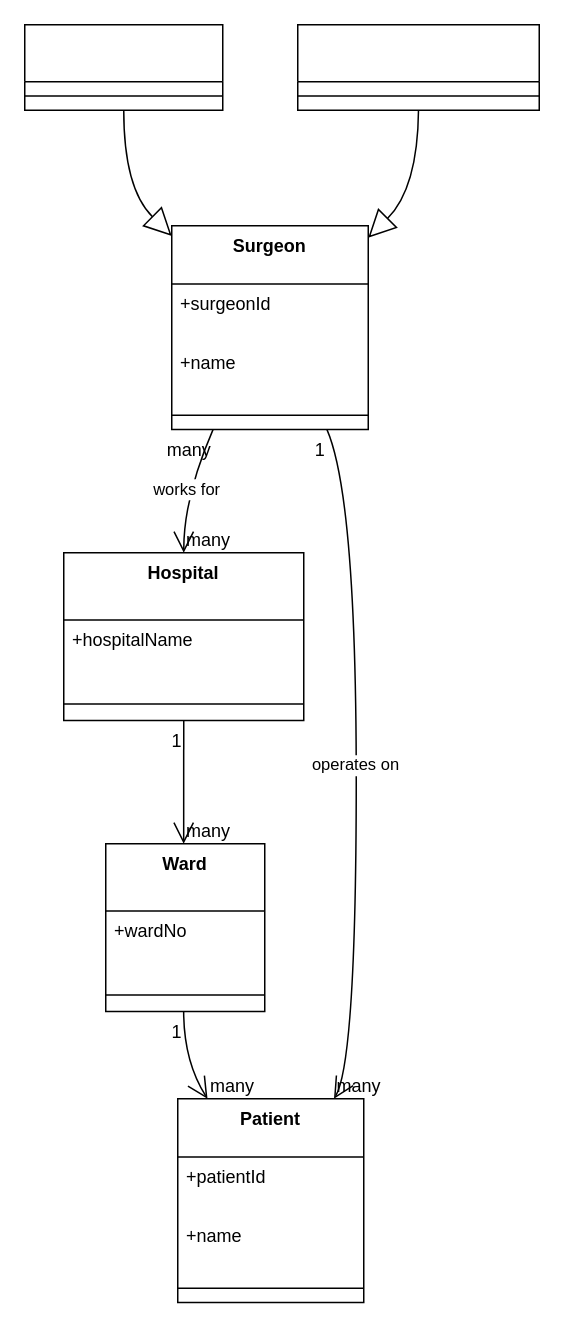
This 564x1328 diagram has some shape labels left out. The box of each missing label's shape, as (x1, y1, x2, y2) in pixels:
NonSeniorSurgeon: (296, 23, 539, 110)
SeniorSurgeon: (23, 23, 223, 110)
